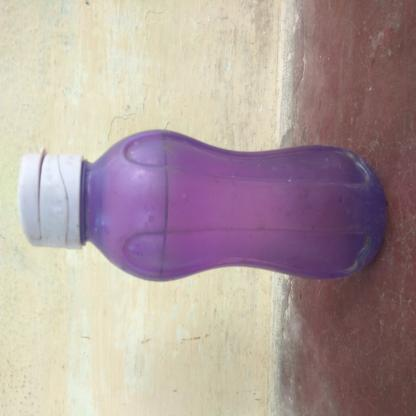bottle: (100, 22, 219, 416)
